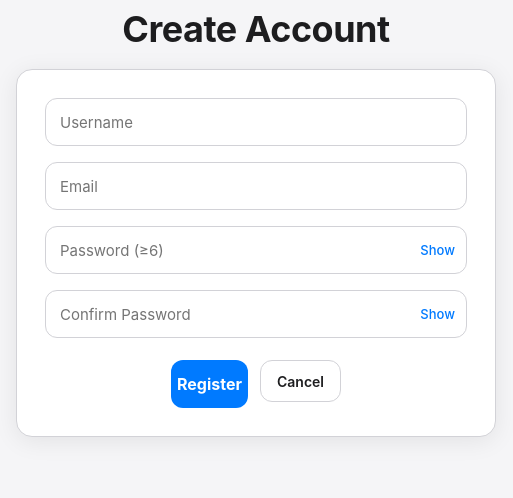
RegisterPage › shows error when password is shorter than 6 characters
Type "u" into the field with placeholder "Username" at [256, 122], box [45,98,467,146]
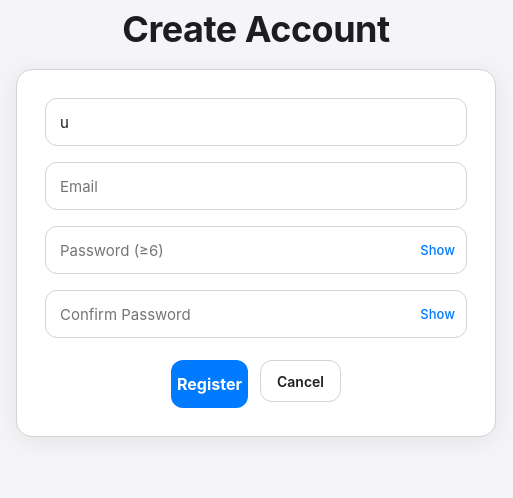
Type "u@x.com" into the field with placeholder "Email" at [256, 186], box [45,162,467,210]
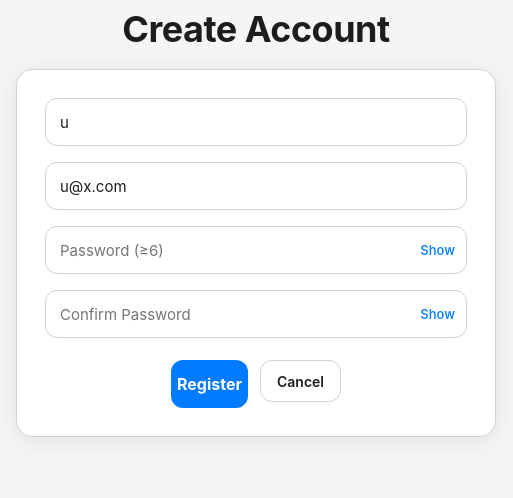
Type "123" into the password field with placeholder "Password (≥6)" at [256, 250], box [45,226,467,274]
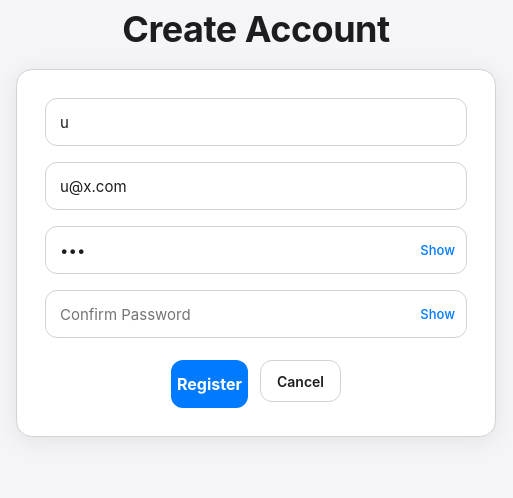
Type "123" into the password field with placeholder "Confirm Password" at [256, 314], box [45,290,467,338]
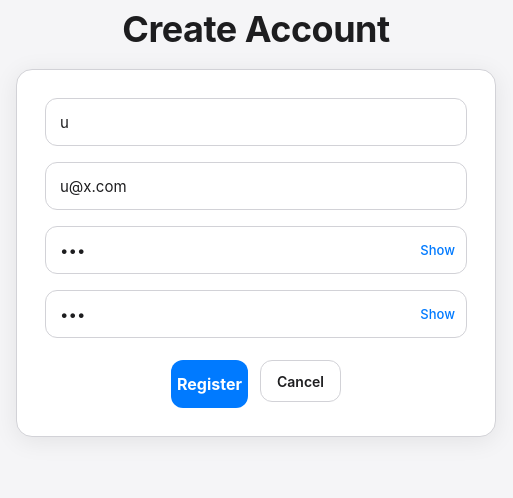
Submit the form "Show Show Register Cancel", box [45,98,467,408]
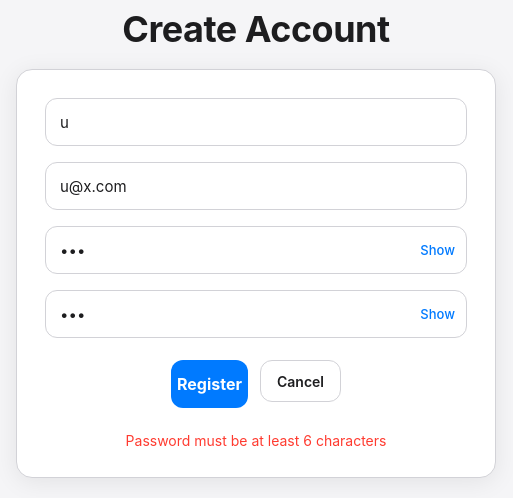
Expected: the text "Password must be at least 6 characters" is shown, [126,432,386,449]
